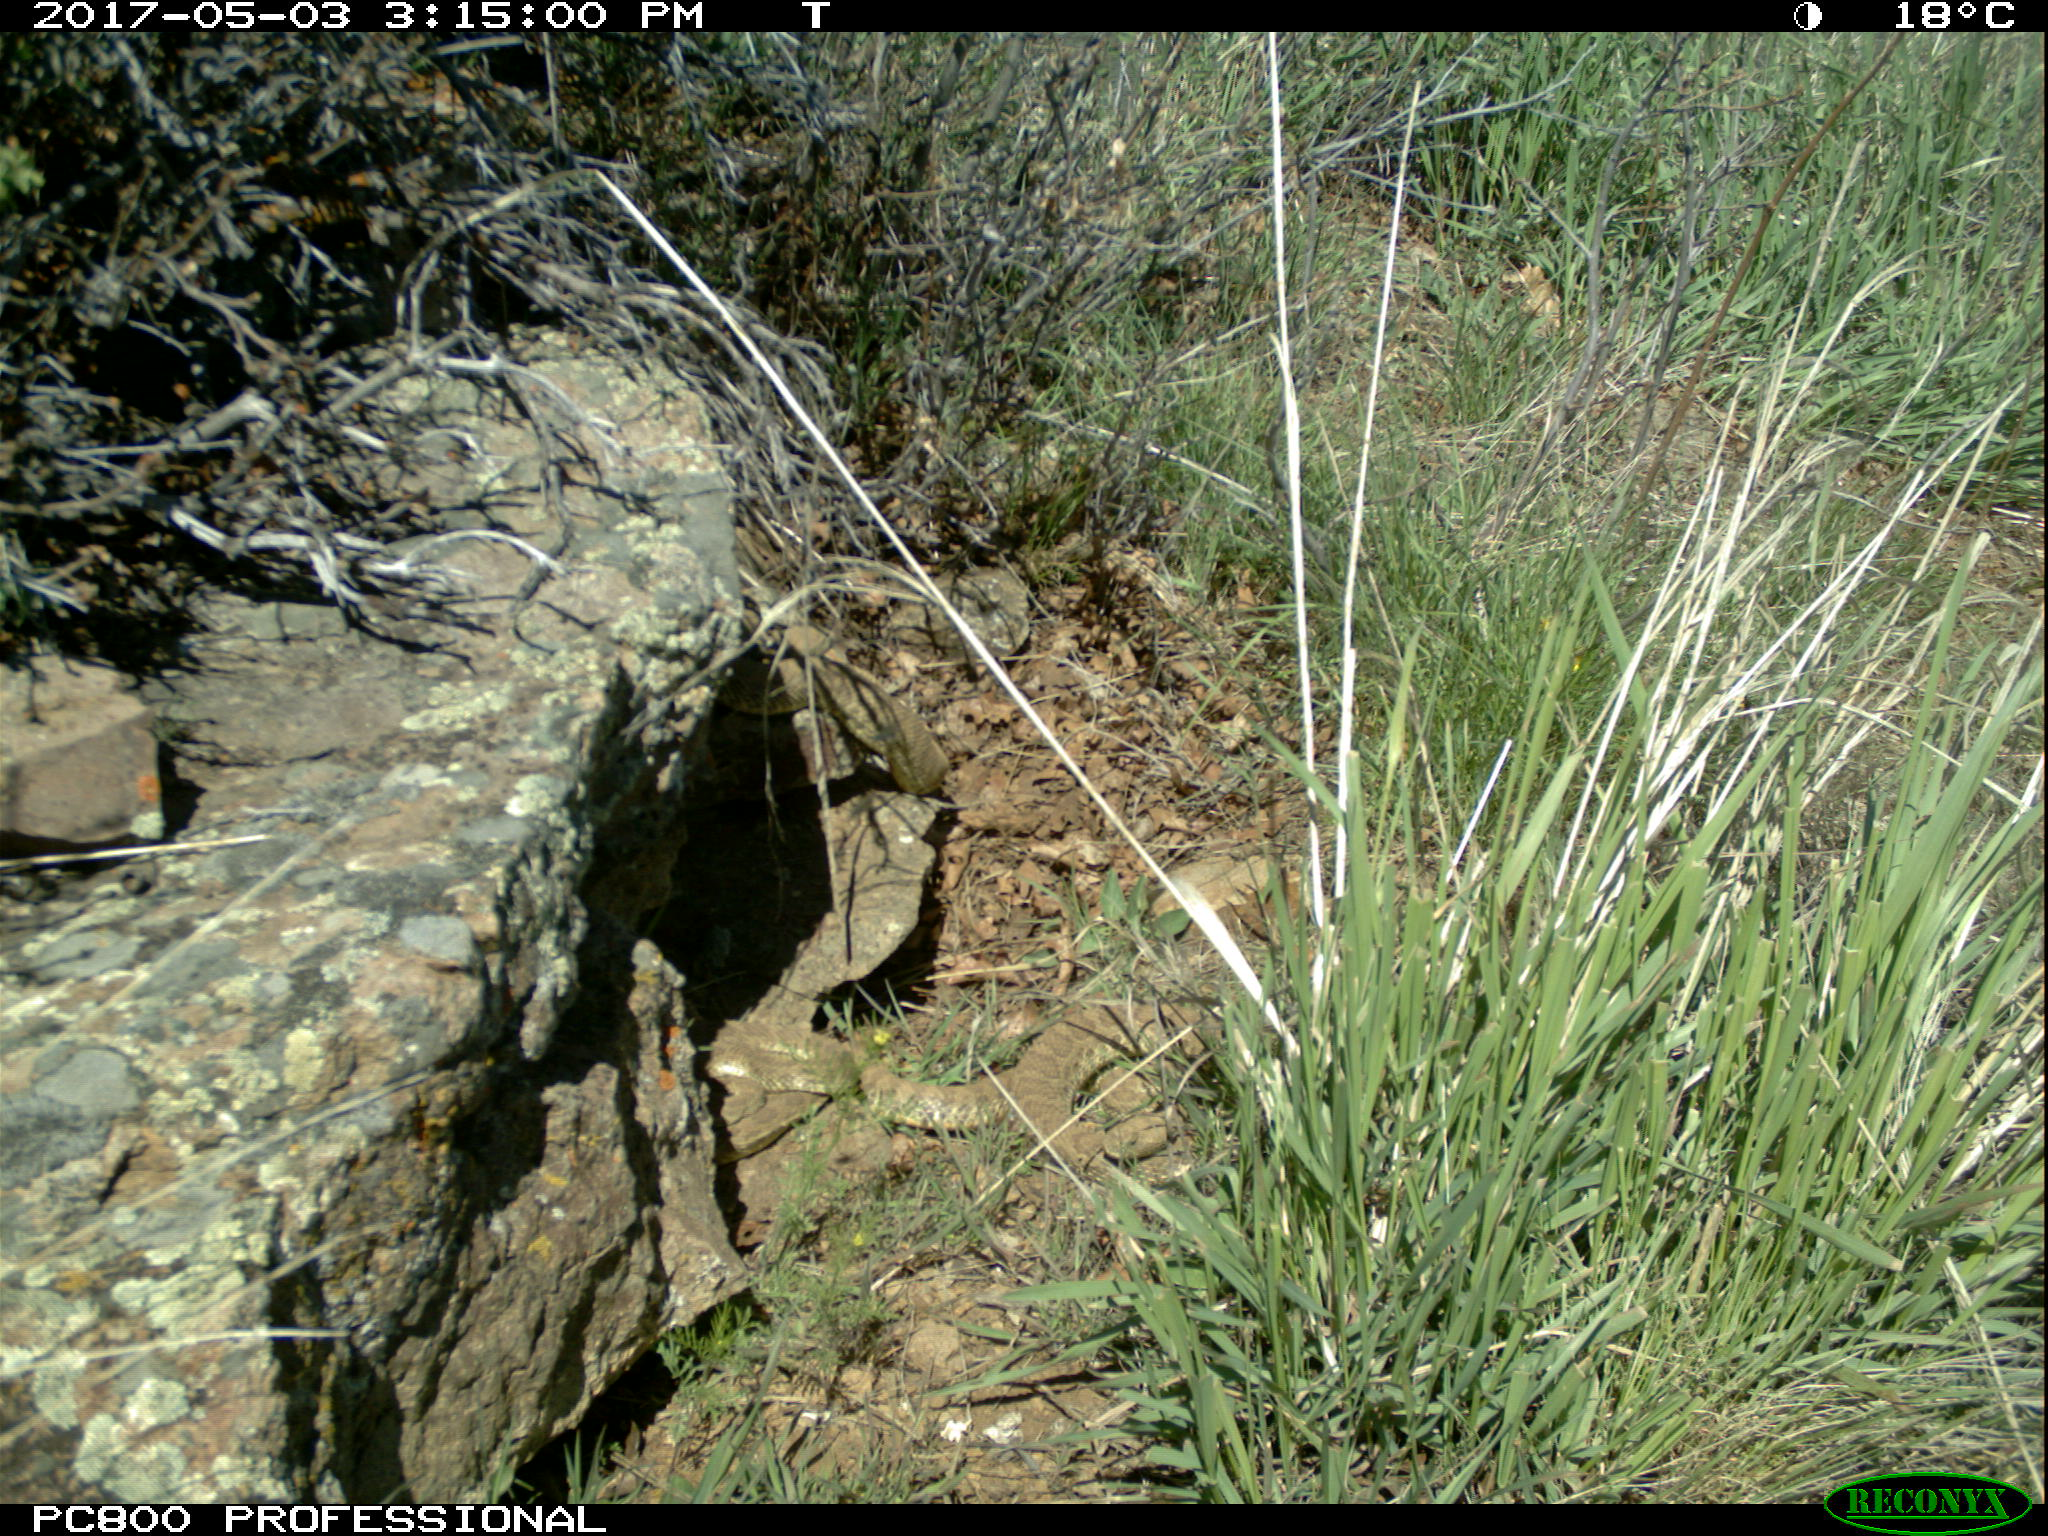snake: (708, 984, 1238, 1168)
